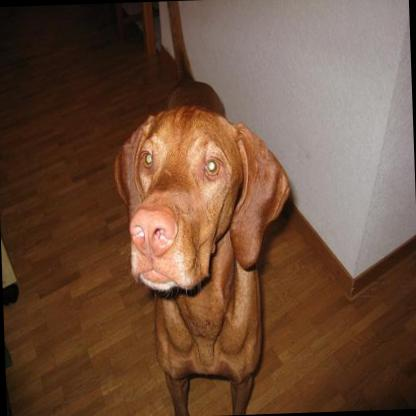vizsla: (105, 0, 296, 416)
